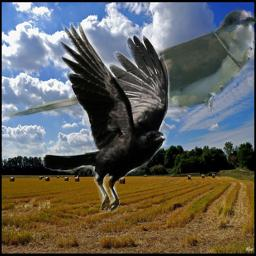Crow: (42, 22, 171, 217)
Cuckoo: (5, 7, 256, 122)
